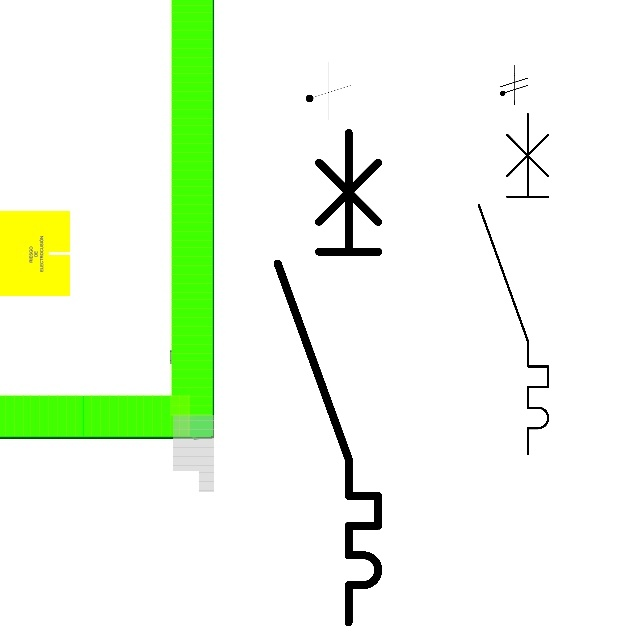interruptor_termomagnetico: (265, 120, 391, 635), (470, 105, 557, 462)
